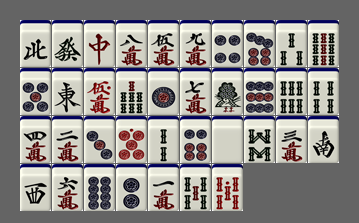0m: (84, 68, 115, 115)
0p: (116, 116, 147, 163)
0s: (212, 164, 243, 211)
1m: (148, 164, 179, 211)
1p: (148, 68, 179, 115)
1s: (212, 68, 243, 115)
1z: (52, 68, 83, 115)
2m: (52, 116, 83, 163)
2p: (116, 164, 147, 211)
2s: (148, 116, 179, 163)
2z: (308, 116, 339, 163)
3m: (276, 116, 307, 163)
3p: (84, 116, 115, 163)
3s: (276, 20, 307, 67)
3z: (20, 164, 51, 211)
4m: (20, 116, 51, 163)
4p: (212, 20, 243, 67)
4s: (308, 68, 339, 115)
4z: (20, 20, 51, 67)
5m: (148, 20, 179, 67)
5p: (20, 68, 51, 115)
5s: (180, 164, 211, 211)
5z: (212, 116, 243, 163)
6m: (52, 164, 83, 211)
6p: (180, 116, 211, 163)
6s: (276, 68, 307, 115)
6z: (52, 20, 83, 67)
7m: (180, 68, 211, 115)
7p: (244, 20, 275, 67)
7s: (116, 68, 147, 115)
7z: (84, 20, 115, 67)
8m: (116, 20, 147, 67)
8p: (84, 164, 115, 211)
8s: (244, 116, 275, 163)
9m: (180, 20, 211, 67)
9p: (244, 68, 275, 115)
9s: (308, 20, 339, 67)
